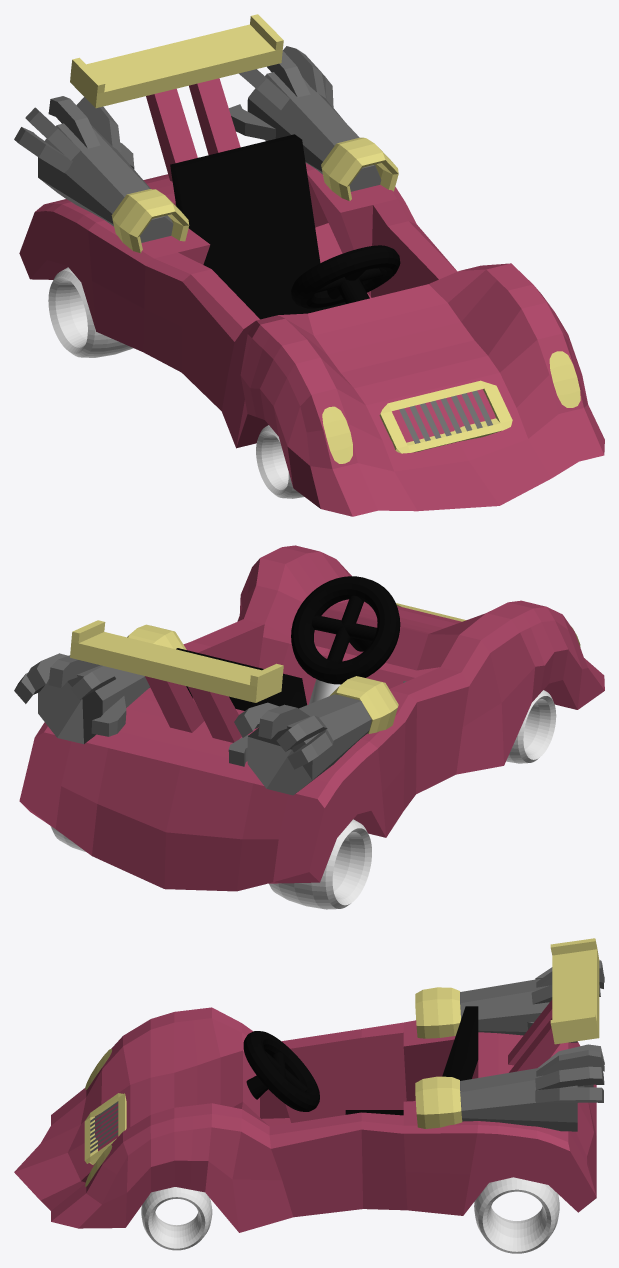
File: kartModeloVermelho.fbx
3 views of the same model, one above another, from view 1: azimuth 30°, elevation 25°; view 2: azimuth 150°, elevation 25°; view 3: azimuth 270°, elevation 25° (orthographic). The views are drawn at different scales.
Visible parts, largest first — view 1: Cube.003, Cube.005, Cube.002, Cube.006, Torus.004, Cube.007, Torus.002, Torus, Cube.004, Plane, Cylinder.001, Torus.001; view 2: Cube.003, Cube.005, Cube.006, Torus, Torus.002, Cube.007, Torus.004, Torus.001, Cube.002, Cylinder.004, Cylinder.003; view 3: Cube.003, Cube.005, Cube.006, Torus.004, Torus.002, Torus, Torus.001, Cube.002, Cube.007, Cube.004, Cylinder.001, Plane.
Boxes of the visible parts, bbox=[...] form: Cube.003: bbox=[19, 163, 604, 516]; Cube.005: bbox=[14, 46, 381, 242]; Cube.002: bbox=[170, 134, 345, 319]; Cube.006: bbox=[70, 14, 283, 108]; Torus.004: bbox=[111, 137, 398, 253]; Cube.007: bbox=[146, 78, 240, 181]; Torus.002: bbox=[48, 267, 133, 357]; Torus: bbox=[291, 245, 400, 308]; Cube.004: bbox=[379, 380, 512, 453]; Plane: bbox=[322, 351, 580, 463]; Cylinder.001: bbox=[399, 390, 492, 443]; Torus.001: bbox=[256, 425, 304, 498]; Cube.003: bbox=[19, 545, 604, 891]; Cube.005: bbox=[14, 653, 371, 795]; Cube.006: bbox=[70, 620, 283, 702]; Torus: bbox=[291, 576, 400, 684]; Torus.002: bbox=[50, 819, 371, 909]; Cube.007: bbox=[145, 676, 241, 742]; Torus.004: bbox=[127, 624, 398, 733]; Torus.001: bbox=[506, 690, 556, 763]; Cube.002: bbox=[176, 648, 306, 710]; Cylinder.004: bbox=[327, 595, 363, 661]; Cylinder.003: bbox=[312, 615, 376, 641]; Cube.003: bbox=[14, 1007, 596, 1232]; Cube.005: bbox=[460, 960, 604, 1131]; Cube.006: bbox=[550, 938, 599, 1044]; Torus.004: bbox=[415, 987, 462, 1128]; Torus.002: bbox=[474, 1177, 559, 1253]; Torus: bbox=[243, 1031, 319, 1111]; Torus.001: bbox=[141, 1187, 212, 1250]; Cube.002: bbox=[345, 1006, 478, 1115]; Cube.007: bbox=[508, 999, 559, 1072]; Cube.004: bbox=[84, 1093, 126, 1164]; Cylinder.001: bbox=[90, 1101, 118, 1153]; Plane: bbox=[85, 1048, 112, 1186].
Bounding box in the file's own units: 112 × 91.19 × 220.
